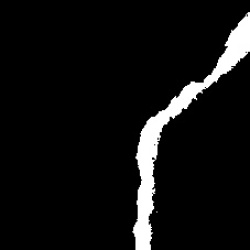crack: (133, 13, 248, 246)
